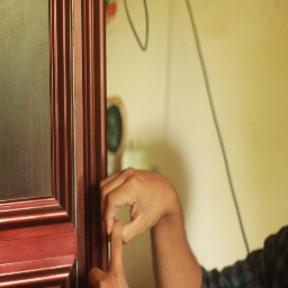Q: (82, 168, 169, 284)
